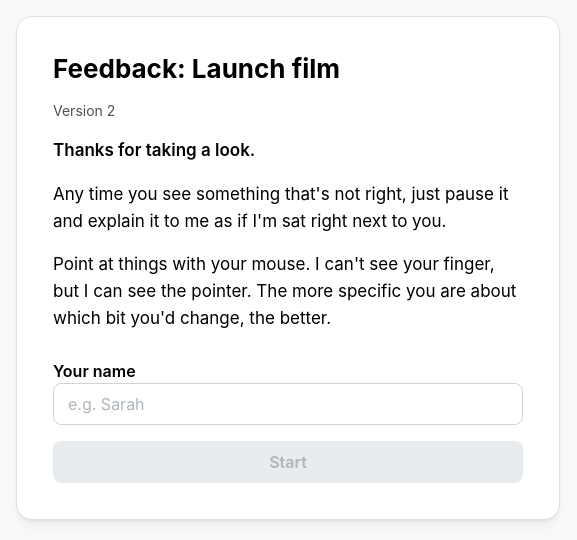
Test: ReviewApp › says there is no microphone, rather than a blocked one, when none is found
In the field with test id "name-input": coordinates (288, 404) [53,383,523,425], type "Sarah"
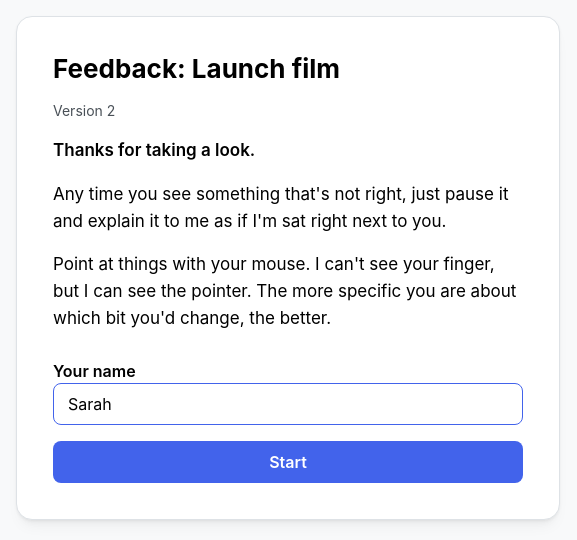
Click the button with test id "start-button": coordinates (288, 462) [53,441,523,483]
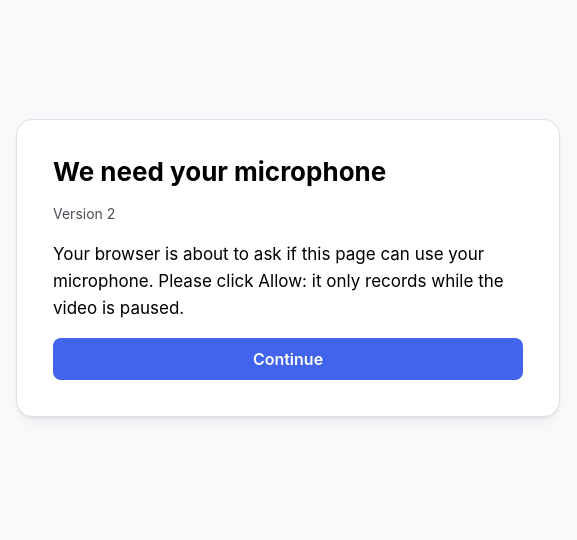
Click the button with test id "mic-continue": coordinates (288, 359) [53,338,523,380]
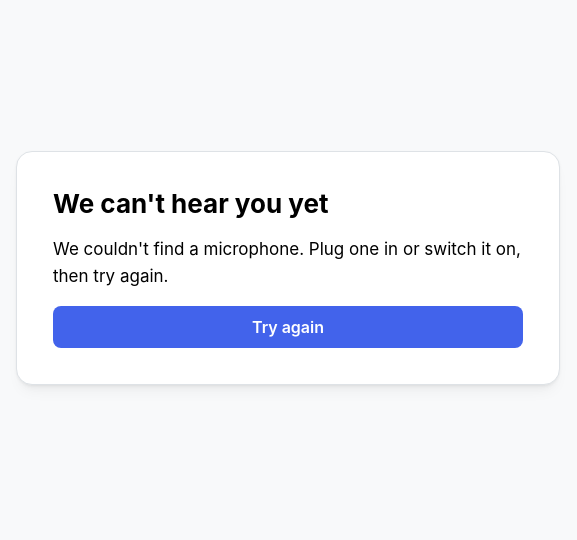
Expected: the element with test id "mic-denied" does not show "Your browser blocked the microphone. To fix it:", [16,151,560,386]
Now the text with test id "mic-no-device" reads "We couldn't find a microphone. Plug one in or switch it on, then try again.", box [53,239,521,286]
Now the button with test id "mic-retry" is shown, box [53,306,523,348]
